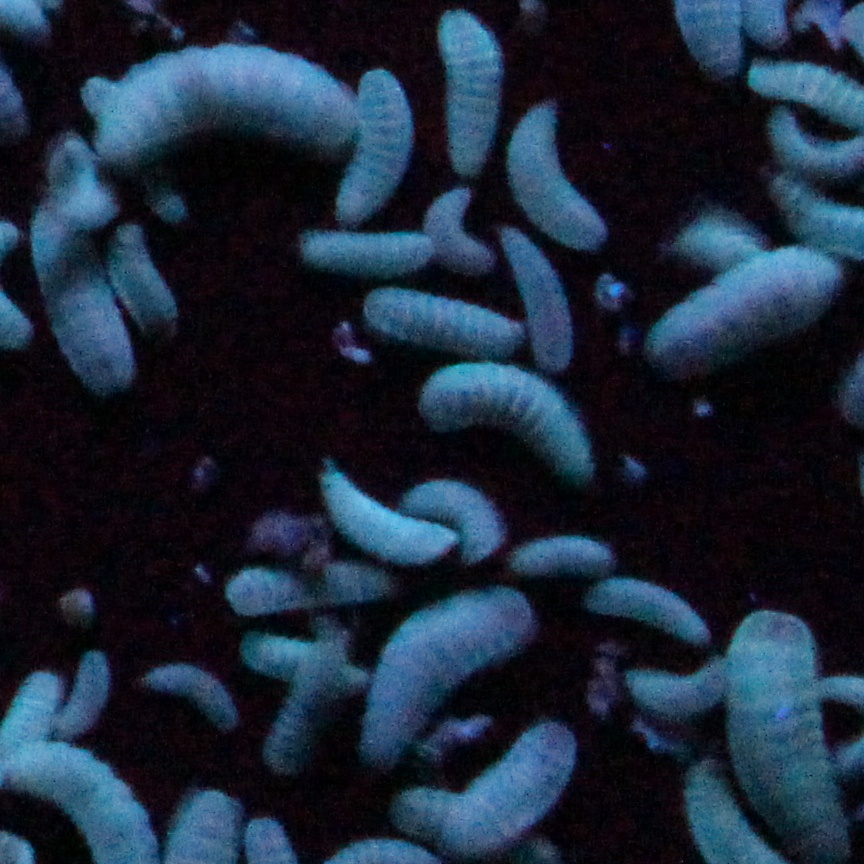larve: (89, 43, 360, 169), (358, 590, 534, 764), (641, 257, 841, 377), (415, 367, 604, 488), (32, 203, 139, 386), (503, 102, 615, 248), (443, 727, 572, 848), (268, 619, 355, 771), (315, 471, 456, 558), (330, 64, 405, 223), (434, 10, 503, 179), (363, 284, 527, 355), (111, 215, 182, 348), (584, 577, 714, 646), (147, 664, 237, 733), (304, 234, 439, 276), (507, 529, 620, 575), (56, 653, 106, 738)
